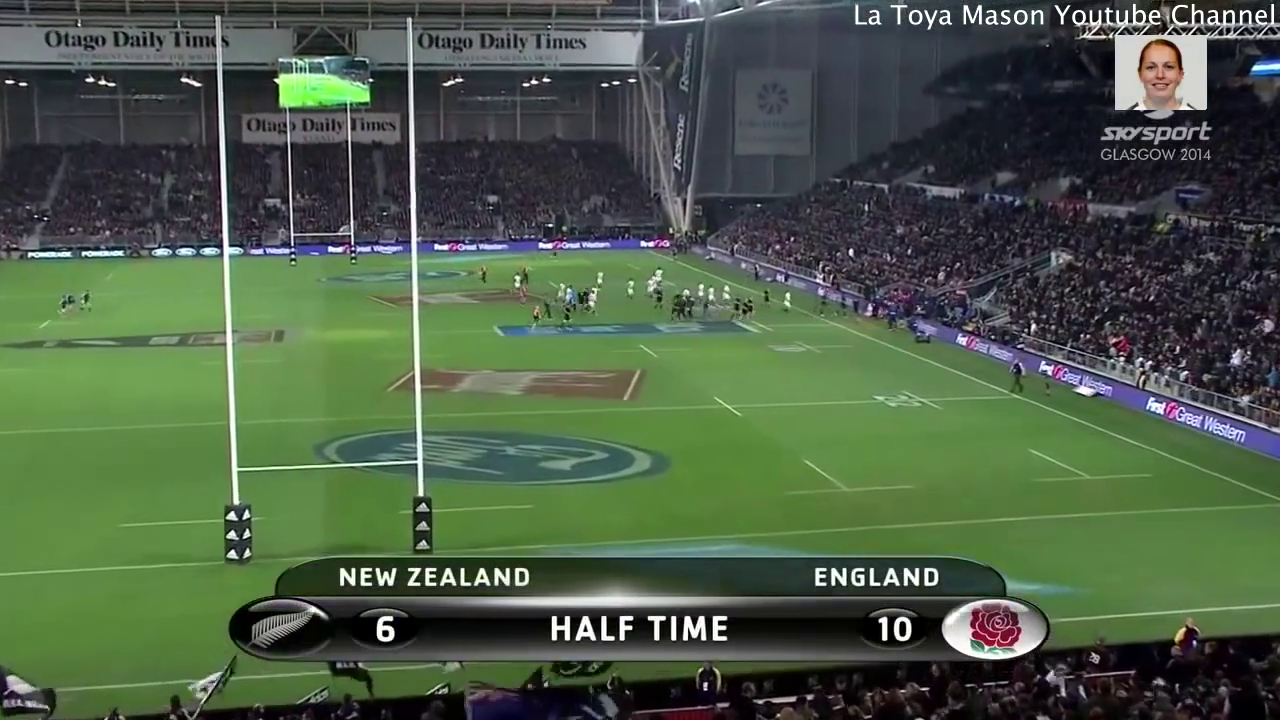player: (80, 288, 96, 316), (559, 301, 573, 332), (746, 295, 758, 326), (585, 288, 599, 314), (719, 283, 732, 309), (56, 292, 68, 320), (539, 297, 553, 321), (65, 291, 78, 316), (623, 277, 636, 302), (517, 265, 529, 292), (529, 304, 541, 331), (651, 285, 663, 311), (780, 289, 792, 314), (706, 285, 720, 306), (670, 292, 680, 321), (554, 281, 565, 306), (731, 297, 742, 322), (477, 263, 488, 287), (511, 271, 522, 295), (695, 282, 707, 304), (575, 286, 585, 312), (644, 276, 654, 299), (593, 269, 605, 288), (760, 286, 772, 305), (687, 295, 696, 320), (565, 282, 573, 305), (741, 298, 748, 323), (654, 267, 663, 285), (583, 288, 589, 312), (650, 274, 656, 286), (679, 286, 688, 293)
